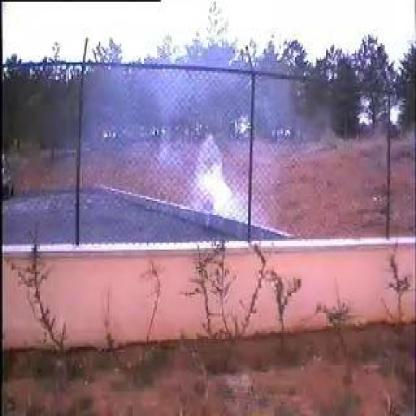-: (151, 79, 266, 223)
